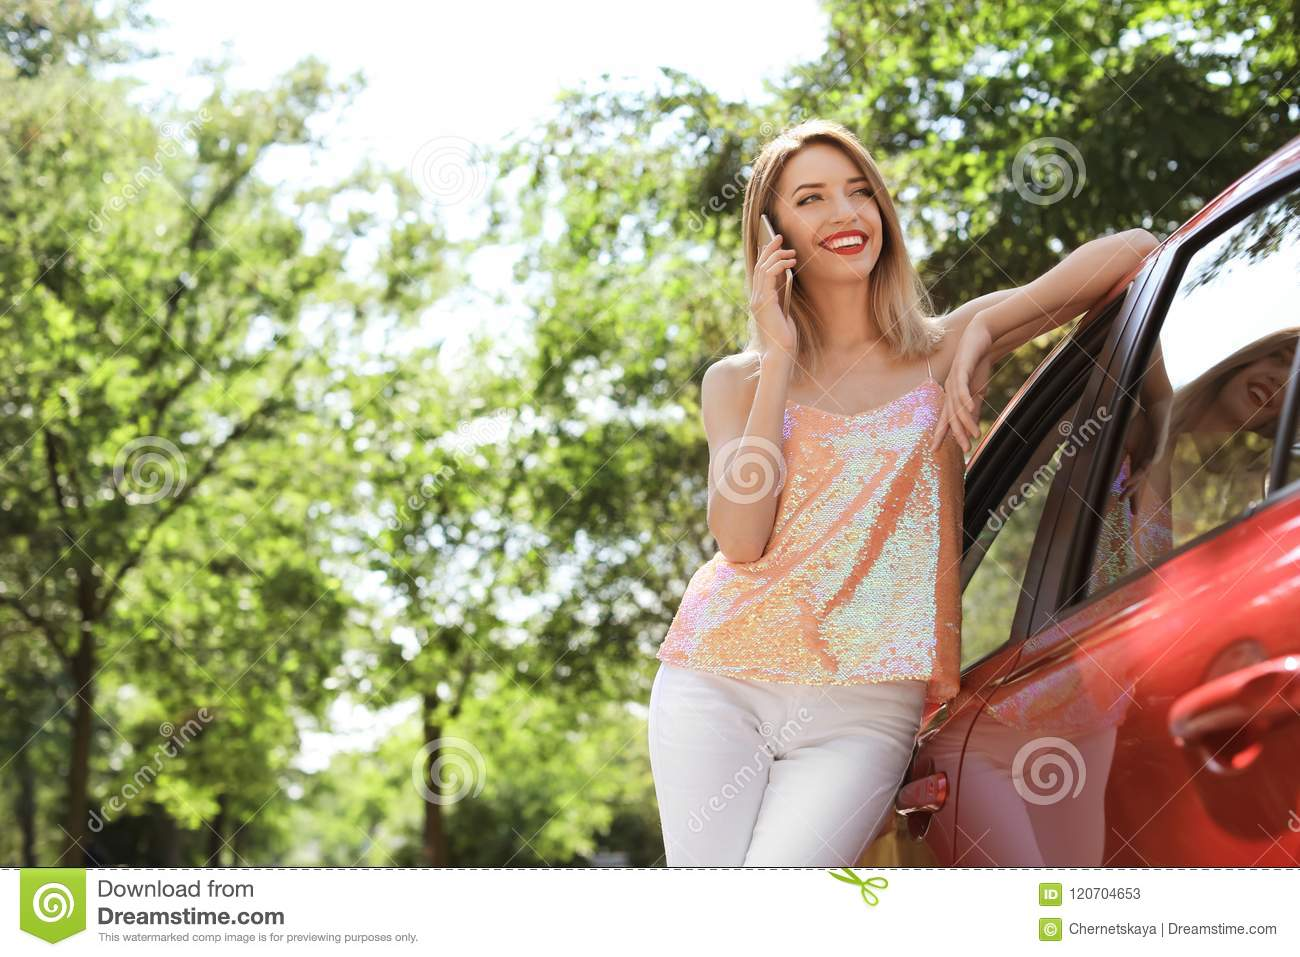phone: (753, 197, 797, 318)
talk: (742, 175, 884, 364)
